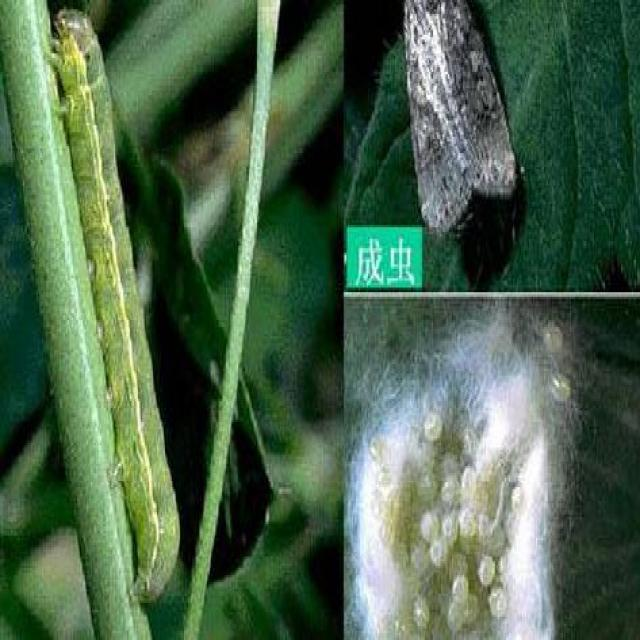BeetArmyWorm-Larva-: (42, 8, 185, 608)
